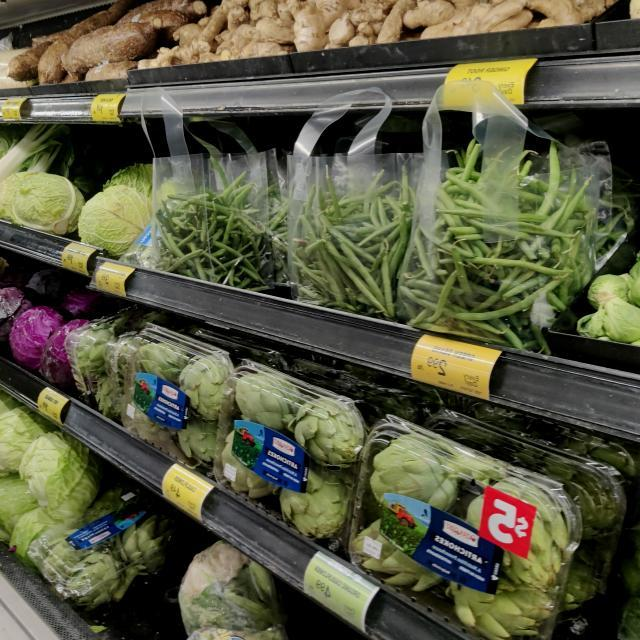Cauliflower: (179, 542, 289, 640)
Lettuce: (76, 187, 152, 256), (11, 178, 84, 235), (0, 173, 37, 220)
